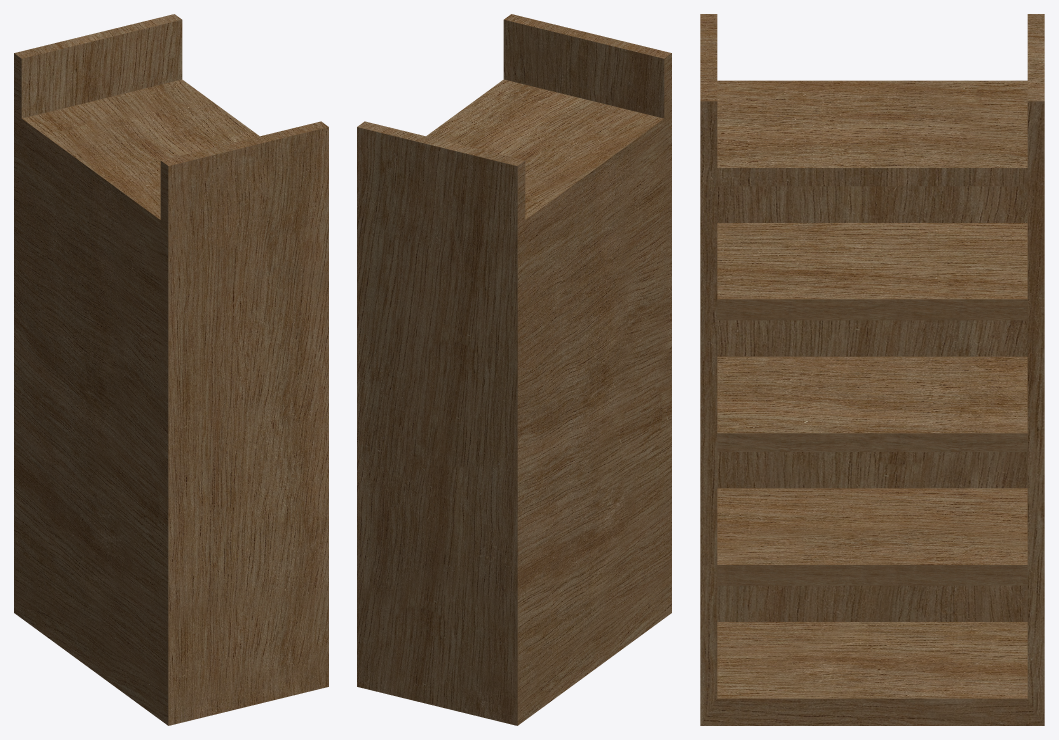
Rendered from shelf.glb.
The picture shows the model from 3 angles, left to right: view 1: azimuth 30°, elevation 25°; view 2: azimuth 150°, elevation 25°; view 3: azimuth 270°, elevation 25°; orthographic projection. The views are drawn at different scales.
Visible parts, largest first — view 1: Cube.001; view 2: Cube.001; view 3: Cube.001.
Boxes of the visible parts, x1,y1,x2,y2 form: Cube.001: (14,14,328,725); Cube.001: (357,14,671,725); Cube.001: (700,14,1044,725).
Size of the model in its own units: 0.6 by 2 by 1.
1 material, 1 textured.
